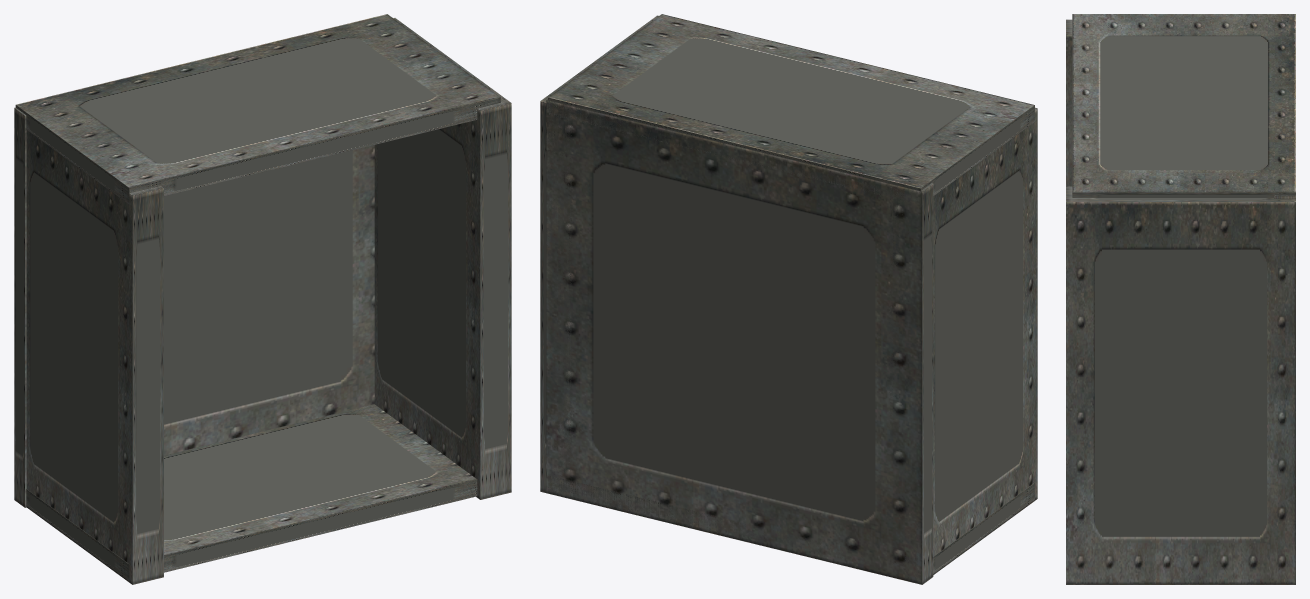
File: elevator.fbx
3 views of the same model, side by side, from view 1: azimuth 30°, elevation 25°; view 2: azimuth 150°, elevation 25°; view 3: azimuth 270°, elevation 25° (orthographic).
Parts seen in each view (by area): view 1: elevator; view 2: elevator; view 3: elevator.
Part boxes in pixels (bbox=[...]): elevator: bbox=[14, 14, 511, 584]; elevator: bbox=[540, 14, 1037, 584]; elevator: bbox=[1066, 14, 1295, 584].
Size of the model in its own units: 137 by 136 by 72.73.
